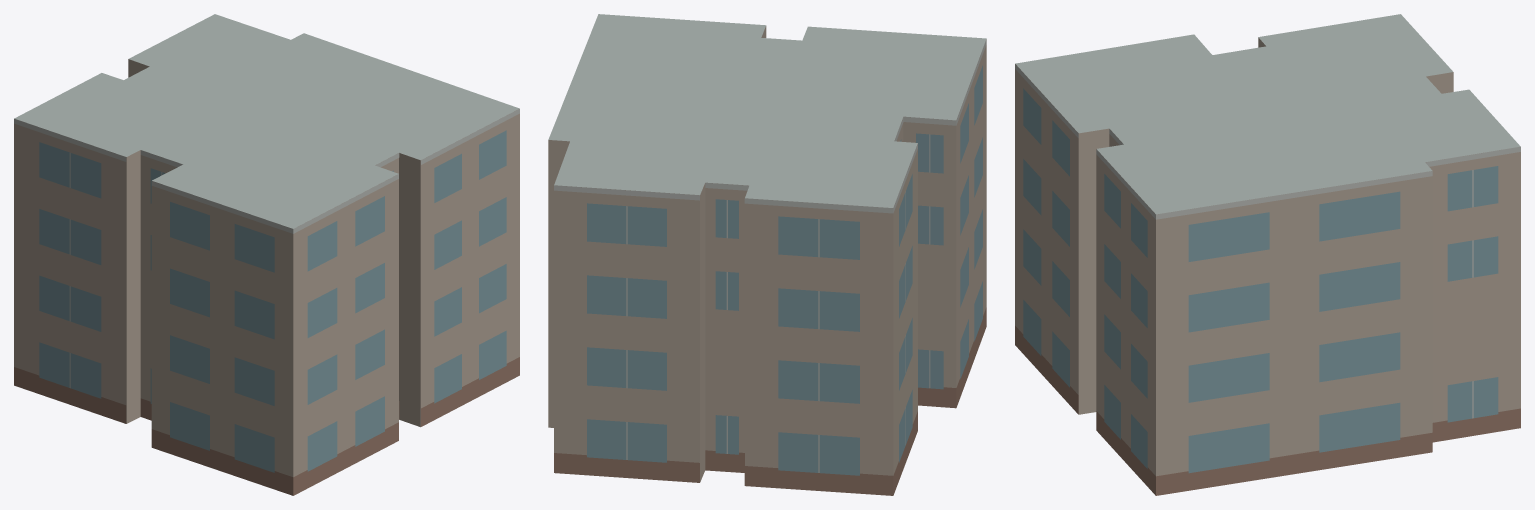
The model's file is survey-upis-32979917.glb.
3 renders of one model, left to right at view 1: azimuth 30°, elevation 25°; view 2: azimuth 150°, elevation 25°; view 3: azimuth 270°, elevation 25°, orthographic. The views are drawn at different scales.
Parts seen in each view (by area): view 1: survey-upis-32979917.tmp; view 2: survey-upis-32979917.tmp; view 3: survey-upis-32979917.tmp.
Part boxes in pixels (x1,y1,x2,y2): survey-upis-32979917.tmp: [14, 14, 519, 495]; survey-upis-32979917.tmp: [548, 14, 986, 495]; survey-upis-32979917.tmp: [1015, 14, 1520, 495].
Size of the model in its own units: 20.02 by 13.1 by 21.34.
